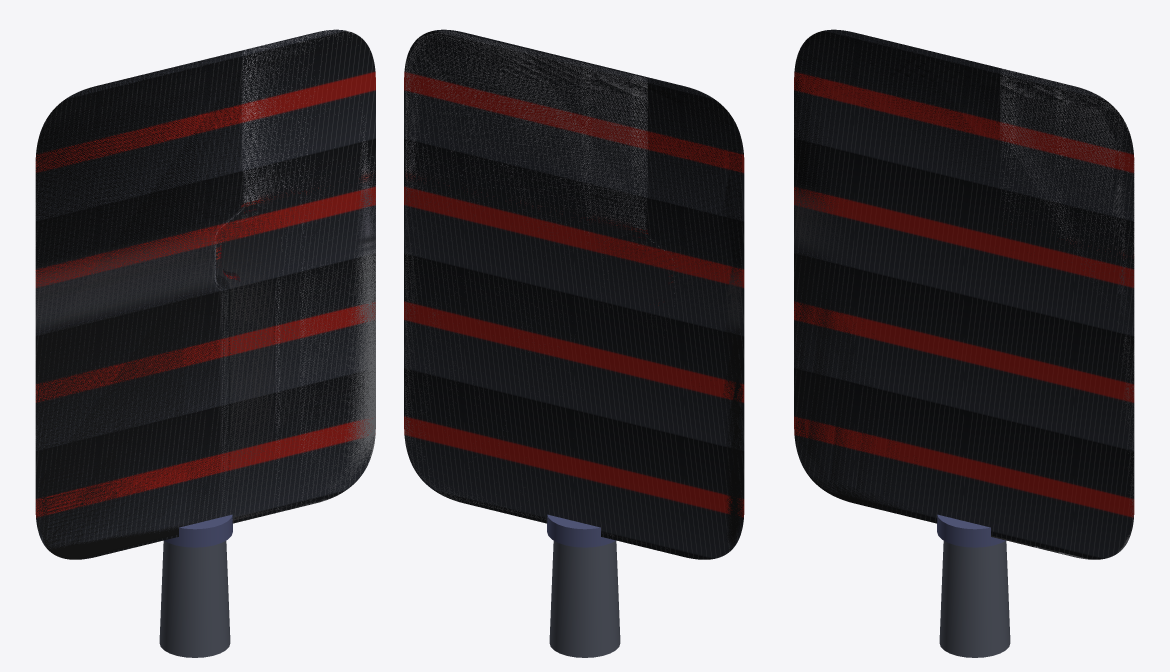
File: paddle-2.glb
3 views of the same model, side by side, from view 1: azimuth 30°, elevation 25°; view 2: azimuth 150°, elevation 25°; view 3: azimuth 330°, elevation 25° (orthographic).
Visible parts, largest first — view 1: Edge, Front, Handle, Grip; view 2: Edge, Back, Handle, Grip; view 3: Edge, Front, Handle, Grip.
Part boxes in pixels (<box>): Edge: <box>35,29,375,559</box>; Front: <box>35,30,375,559</box>; Handle: <box>159,541,230,657</box>; Grip: <box>164,514,232,547</box>; Edge: <box>404,29,744,559</box>; Back: <box>405,30,743,559</box>; Handle: <box>549,541,620,657</box>; Grip: <box>547,514,615,547</box>; Edge: <box>794,29,1134,559</box>; Front: <box>794,29,1134,559</box>; Handle: <box>939,541,1010,657</box>; Grip: <box>937,514,1005,547</box>.
Size of the model in its own units: 3.1 by 5.15 by 0.6.
Materials: 5 (3 with a texture image).
